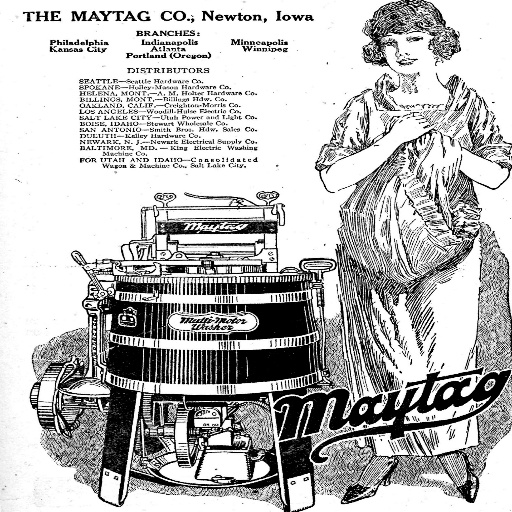hand: (388, 112, 436, 142)
